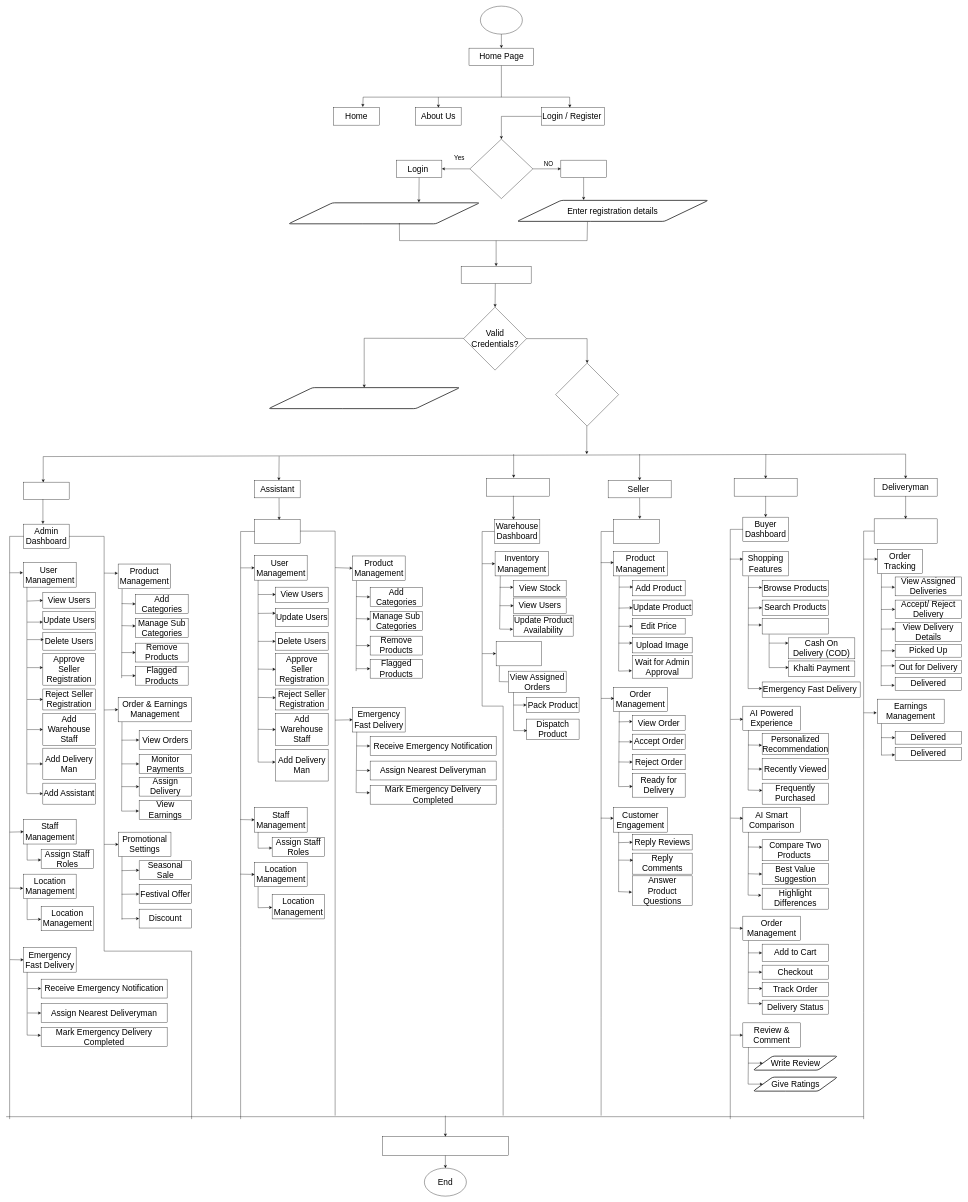
Some shapes in this 968 by 1202 pixel diagram are drawn without their labels. The shapes that lost their labels are listed below. From the top down, each one's centre as x and y in pixels, then its label:
At point 501,20: "Start".
At point 501,169: "Is user registered?".
At point 583,169: "Register".
At point 384,213: "Enter username & password".
At point 496,275: "Authentication".
At point 364,398: "Invalid username/ password".
At point 587,394: "Role verification".
At point 46,491: "Admin".
At point 517,487: "Warehouse Staff".
At point 765,487: "Buyer".
At point 277,531: "Assistant Dashboard".
At point 636,531: "Seller Dashboard".
At point 905,531: "Deliveryman Dashboard".
At point 795,626: "Payment (COD)".
At point 519,653: "Order Processing".
At point 445,1146: "Logout".
